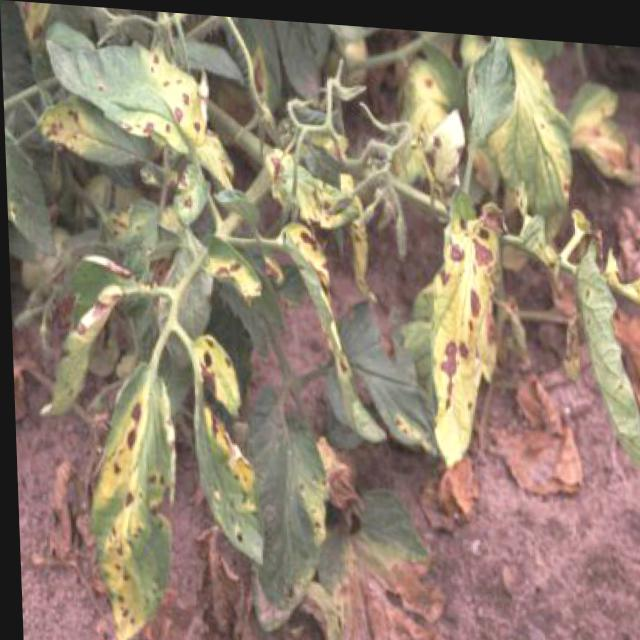Tomato Early blight leaf: (34, 18, 239, 176), (423, 184, 520, 461), (96, 360, 190, 620), (182, 333, 267, 564), (624, 258, 639, 443)
